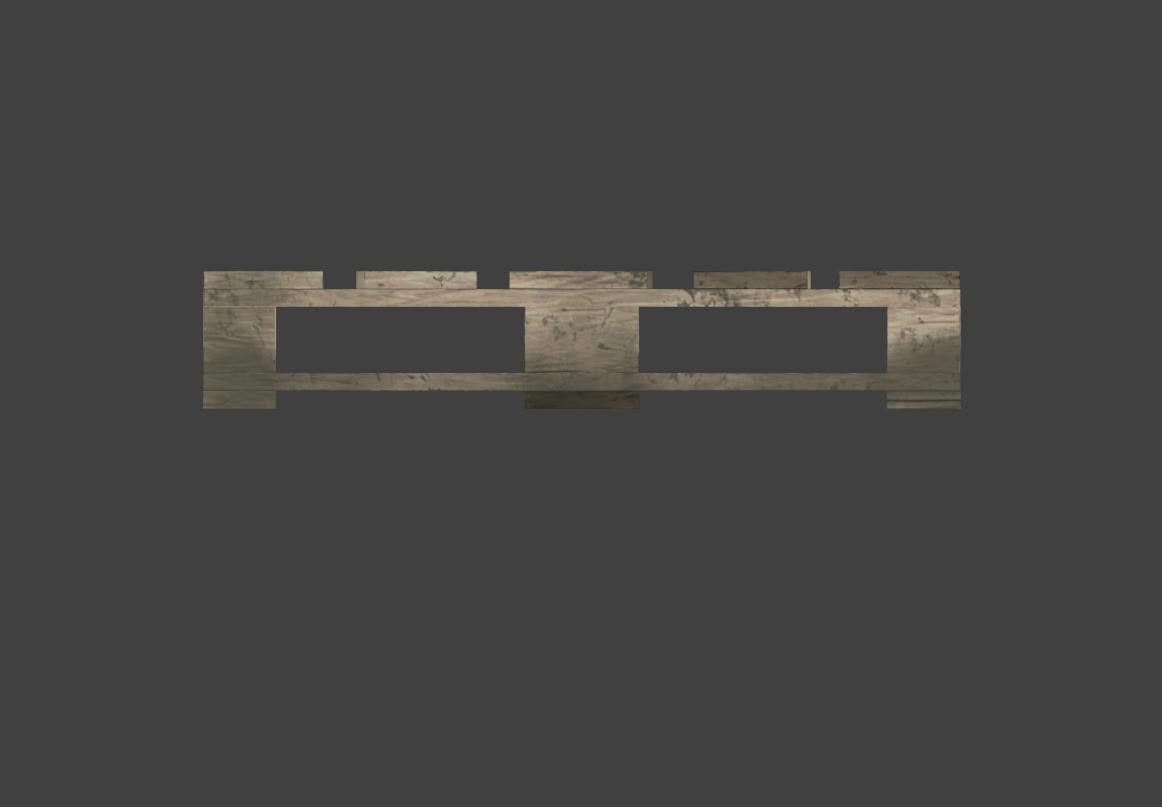palet: (198, 265, 966, 418)
